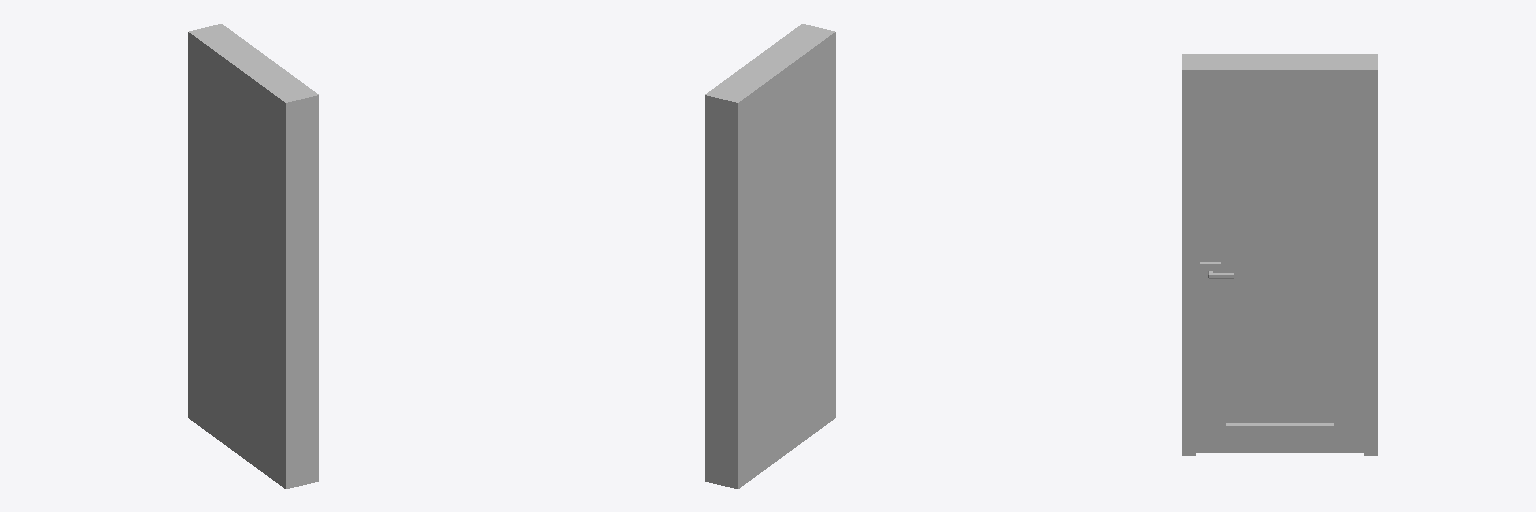
The model's file is GEO_GreenhouseDoor.obj.
3 views of the same model, side by side, from view 1: azimuth 30°, elevation 25°; view 2: azimuth 150°, elevation 25°; view 3: azimuth 270°, elevation 25° (orthographic).
Parts seen in each view (by area): view 1: GEO_GreenhouseDoor group polySurface1; view 2: GEO_GreenhouseDoor group polySurface1; view 3: GEO_GreenhouseDoor group polySurface1.
Boxes of the visible parts, x1,y1,x2,y2 form: GEO_GreenhouseDoor group polySurface1: [188, 24, 318, 488]; GEO_GreenhouseDoor group polySurface1: [705, 24, 835, 488]; GEO_GreenhouseDoor group polySurface1: [1182, 54, 1377, 455].
Bounding box in the file's own units: 15.73 × 153 × 70.2.